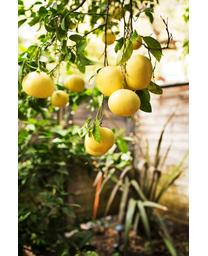lemon: (96, 65, 129, 96), (107, 89, 141, 116), (22, 71, 54, 97), (85, 127, 113, 155), (128, 57, 153, 87)
